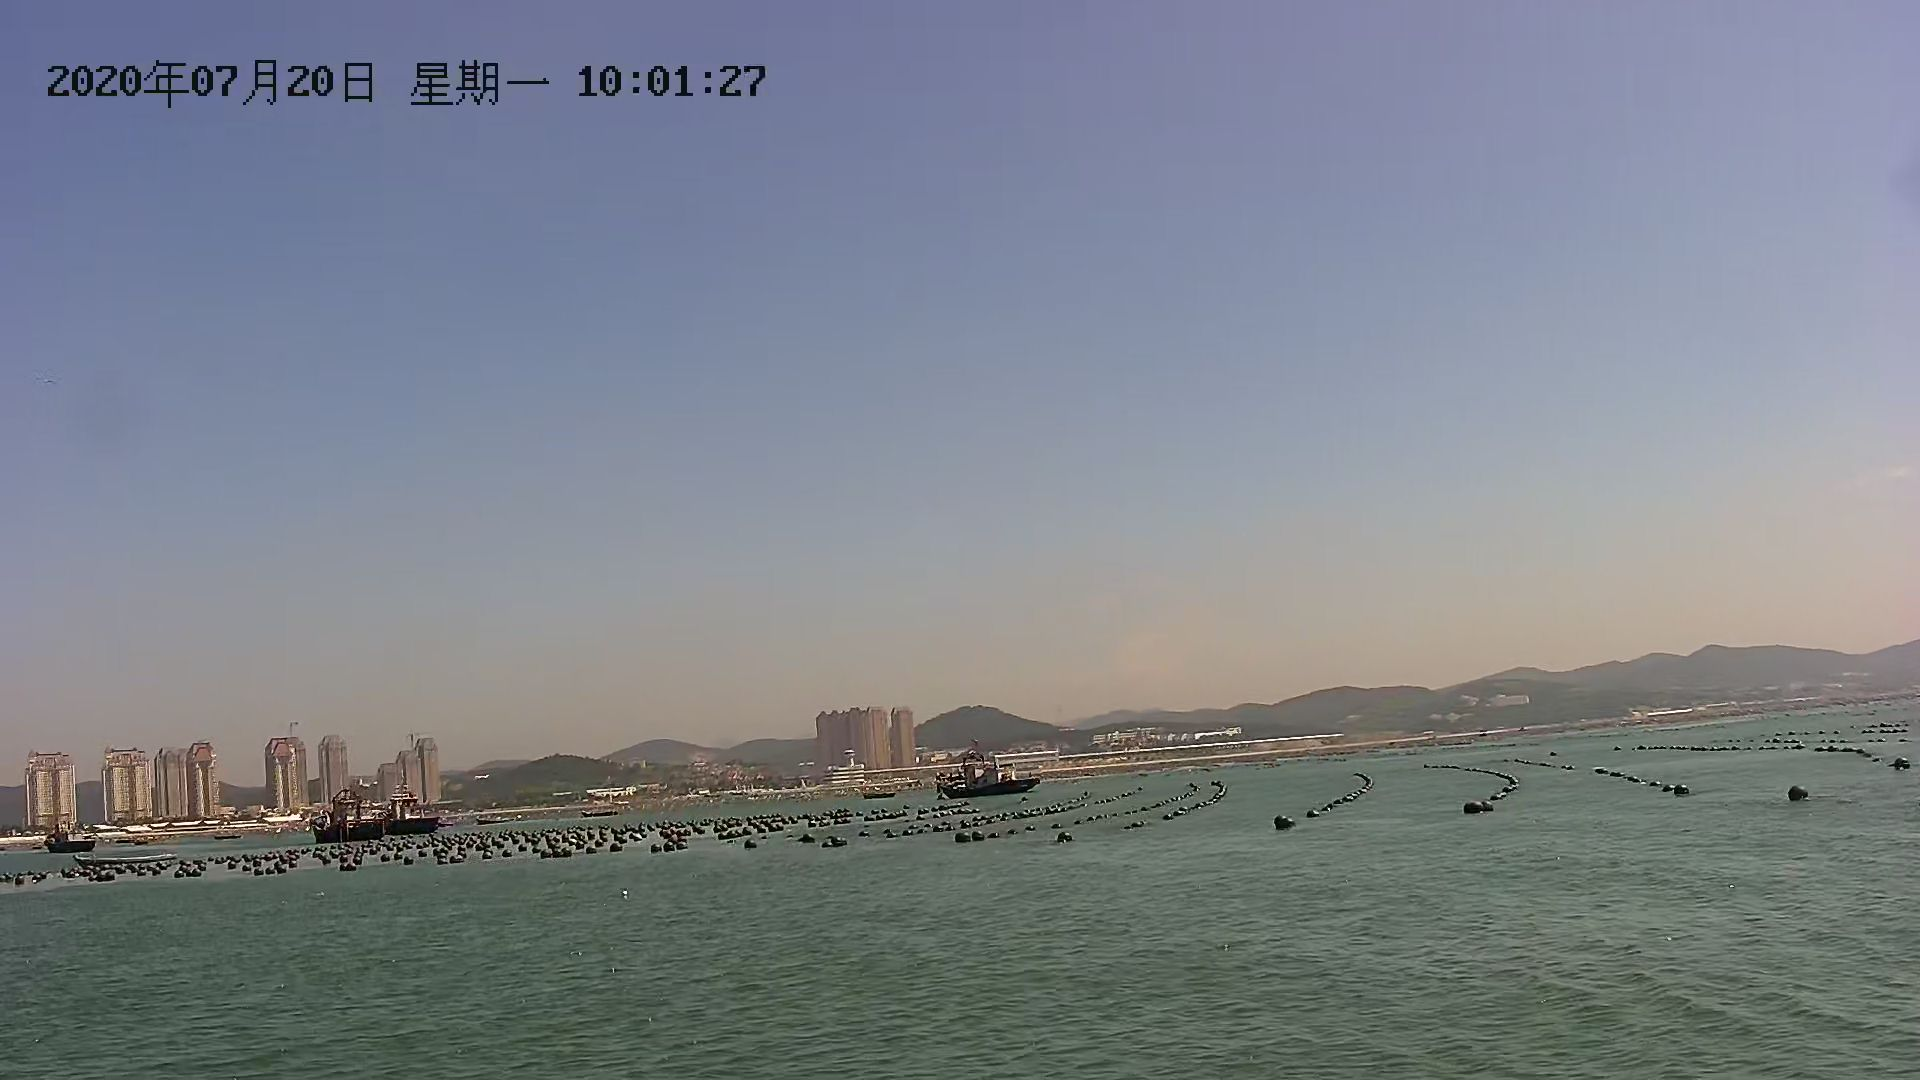ball: (1048, 827, 1073, 845), (1462, 799, 1484, 820), (1672, 783, 1691, 803), (1274, 811, 1291, 832), (953, 829, 972, 848)
boat: (309, 795, 382, 845), (76, 853, 171, 868), (858, 783, 895, 800), (580, 804, 628, 818)
rubbish: (1785, 781, 1815, 808)
ship: (934, 752, 1047, 796), (371, 796, 444, 839), (42, 822, 99, 856)
